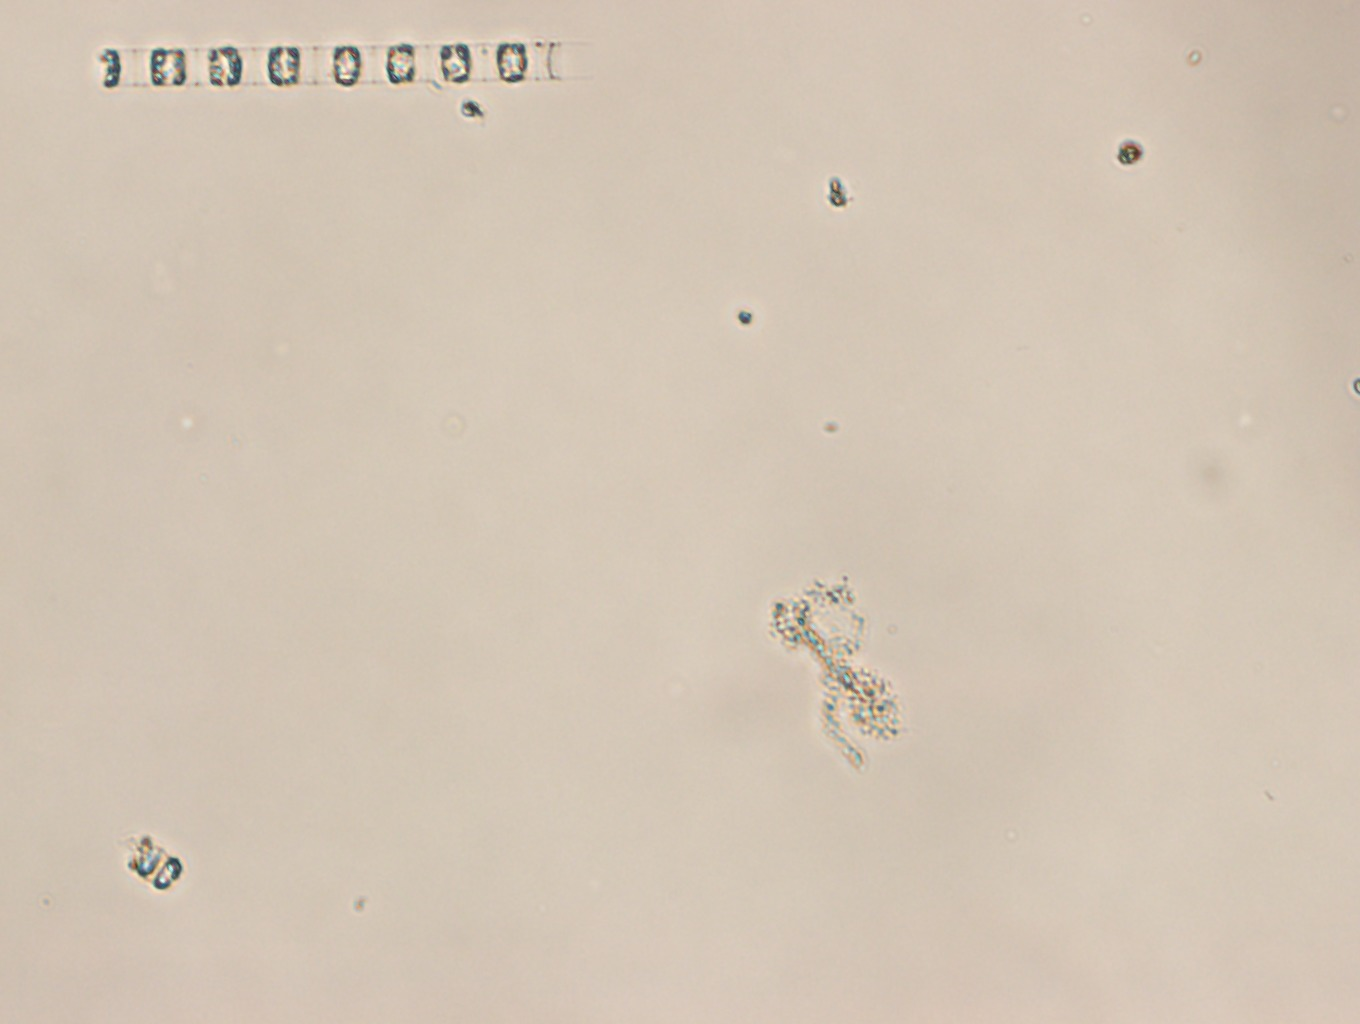skeletonema: (92, 38, 584, 93)
